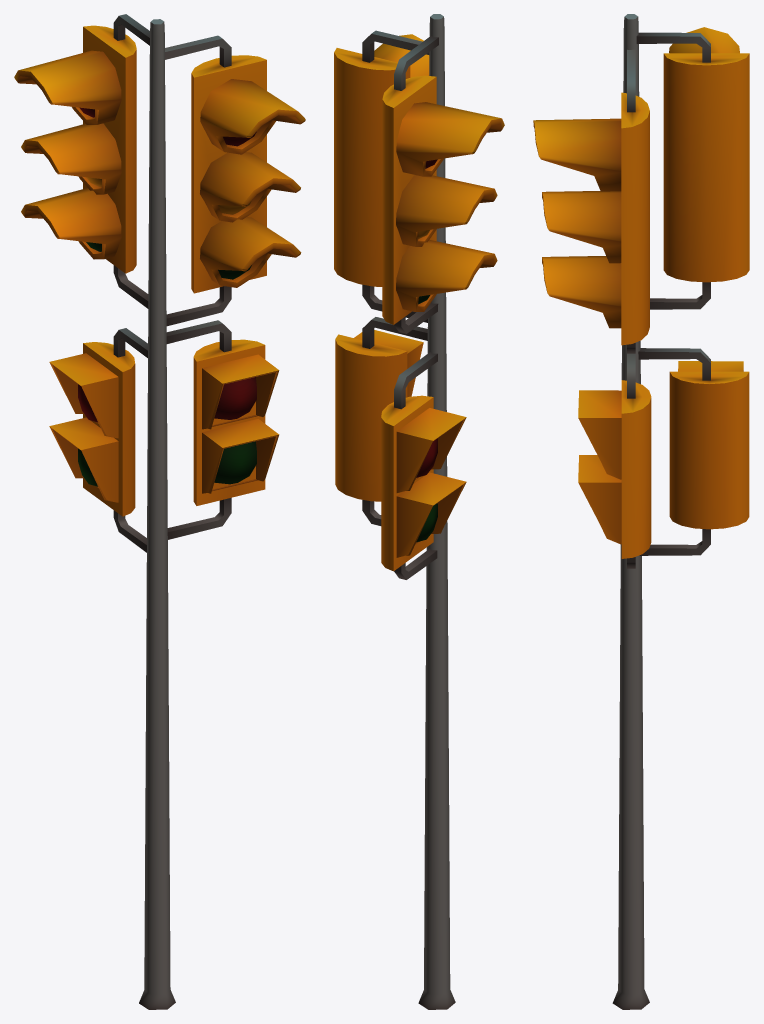
The model's file is MediumTrafficLight_DoubleOposite.fbx.
3 renders of one model, left to right at view 1: azimuth 30°, elevation 25°; view 2: azimuth 150°, elevation 25°; view 3: azimuth 270°, elevation 25°, orthographic.
Parts seen in each view (by area): view 1: MediumTrafficLight_DoubleOposite; view 2: MediumTrafficLight_DoubleOposite; view 3: MediumTrafficLight_DoubleOposite.
Boxes of the visible parts, x1=… form: MediumTrafficLight_DoubleOposite: x1=14, y1=14, x2=305, y2=1009; MediumTrafficLight_DoubleOposite: x1=334, y1=14, x2=504, y2=1009; MediumTrafficLight_DoubleOposite: x1=533, y1=14, x2=749, y2=1009.
Bounding box in the file's own units: 99.26 × 475 × 94.28.
